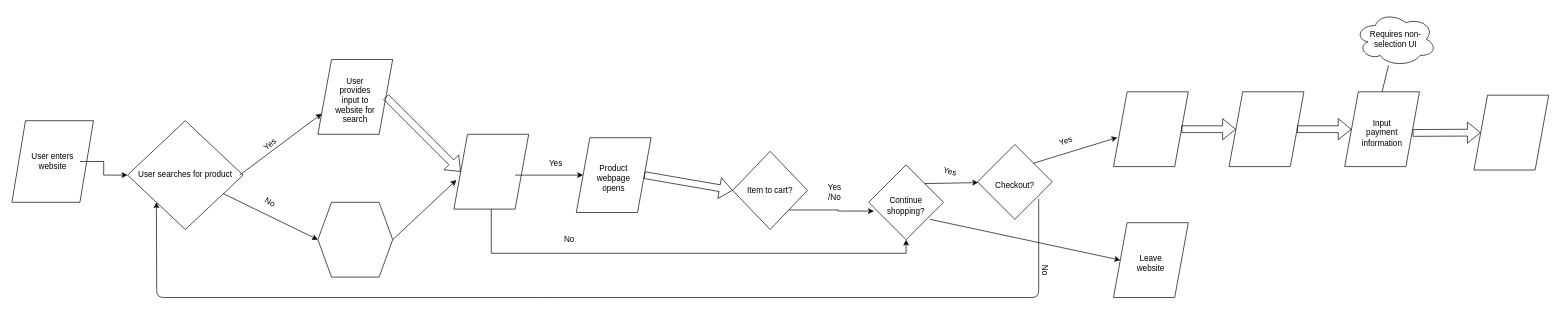
Image size: 1561x315. Some labels were removed from this diagram. Here are the shapes that lost their labels. From the top down, the centre of each, then its label:
At [1150,129]: "View Cart".
At [1266,129]: "View Payment".
At [1511,132]: "User receives order confirmation, email".
At [491,171]: "Found specific product".
At [355,239]: "User looks over products".
